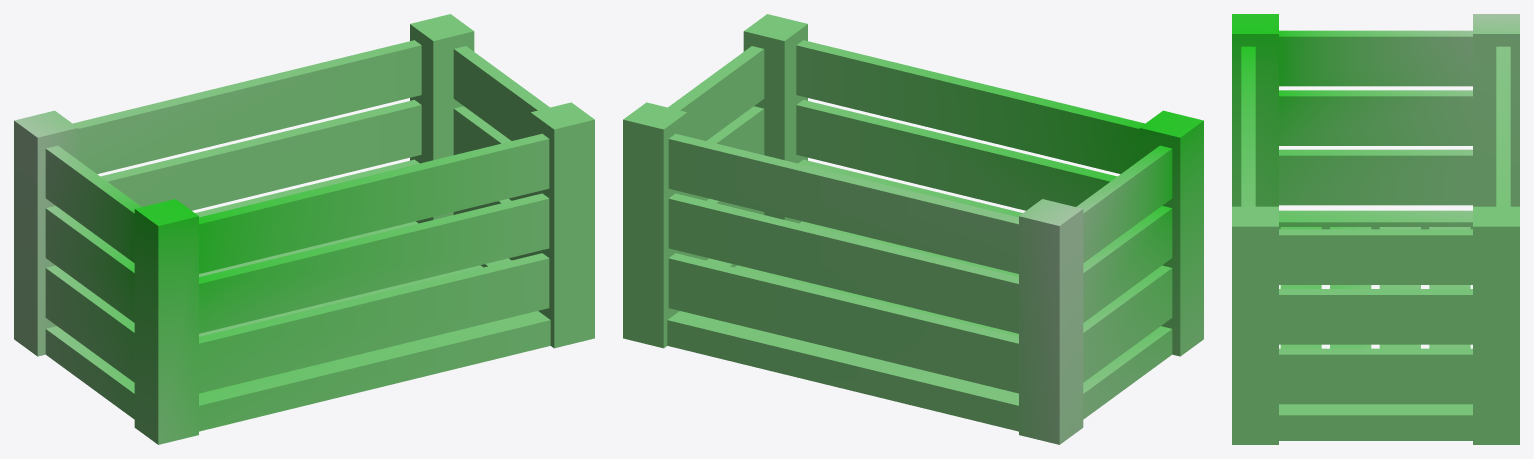
File: MilkCrate.fbx
3 views of the same model, side by side, from view 1: azimuth 30°, elevation 25°; view 2: azimuth 150°, elevation 25°; view 3: azimuth 270°, elevation 25° (orthographic).
Parts seen in each view (by area): view 1: MilkCrate; view 2: MilkCrate; view 3: MilkCrate.
Part boxes in pixels (<box>): MilkCrate: <box>14,14,594,444</box>; MilkCrate: <box>623,14,1203,444</box>; MilkCrate: <box>1232,14,1519,444</box>.
Size of the model in its own units: 0.4973 by 0.2382 by 0.2847.
